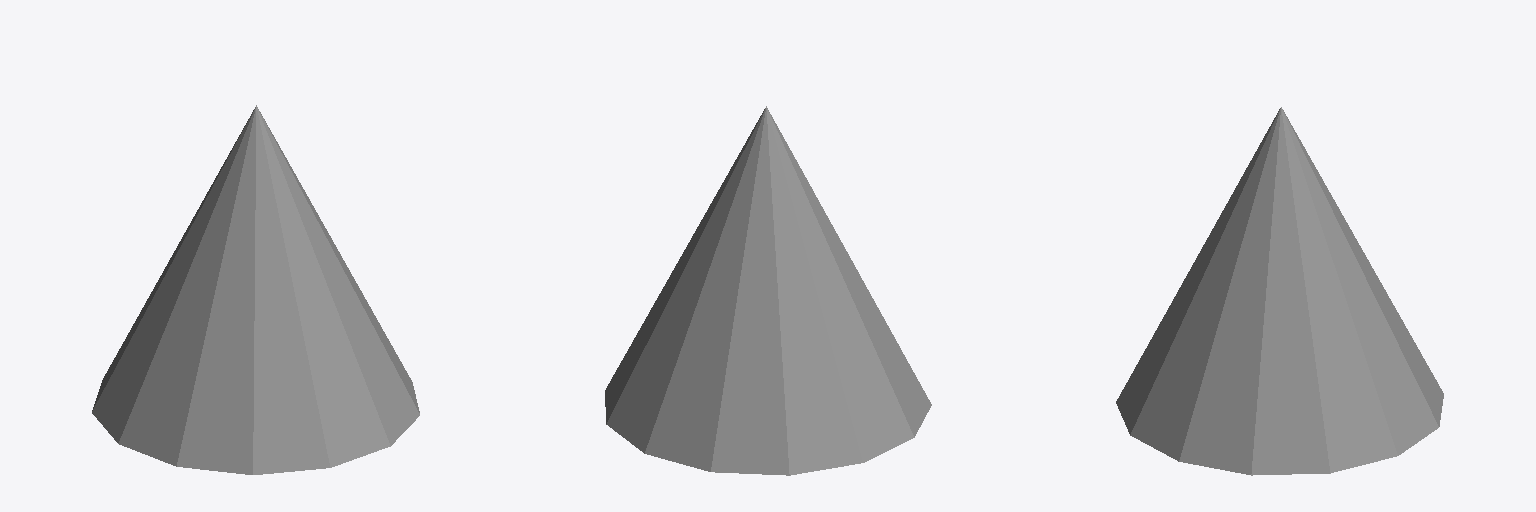
The model's file is hutte_tex.obj.
The picture shows the model from 3 angles: view 1: azimuth 30°, elevation 25°; view 2: azimuth 150°, elevation 25°; view 3: azimuth 270°, elevation 25°; orthographic projection.
Visible parts, largest first — view 1: Cone; view 2: Cone; view 3: Cone.
Boxes of the visible parts, x1,y1,x2,y2 form: Cone: [92, 105, 419, 474]; Cone: [605, 106, 931, 475]; Cone: [1116, 107, 1443, 475].
Size of the model in its own units: 1.98 by 2 by 1.98.